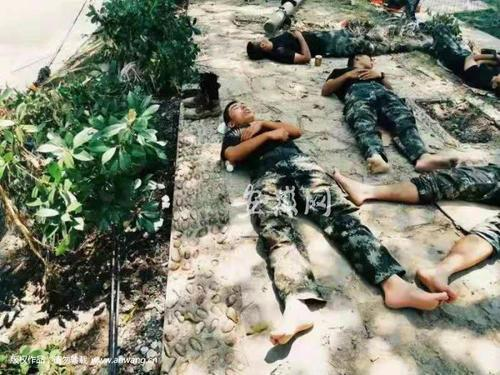Fall-Detected: (403, 16, 500, 106)
